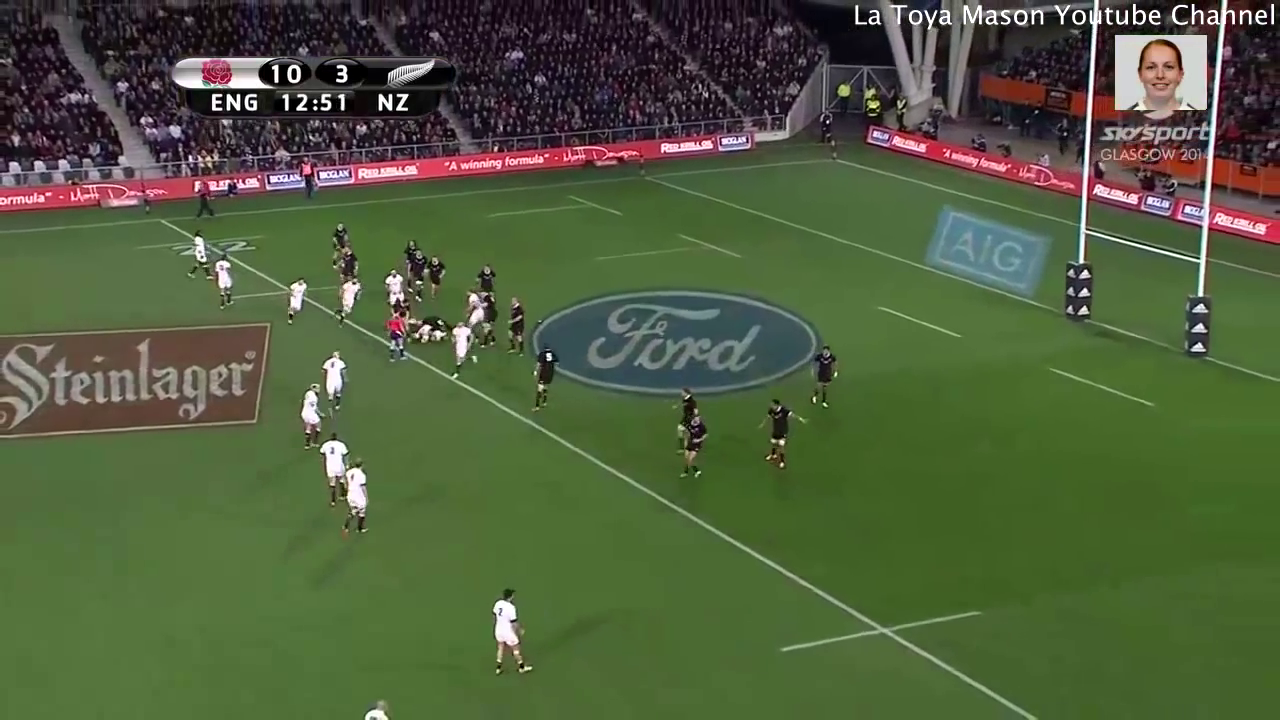player: (481, 583, 541, 674), (754, 392, 803, 474), (338, 454, 374, 542), (804, 338, 845, 415), (294, 372, 331, 455), (317, 428, 353, 510), (317, 344, 357, 416), (526, 336, 561, 414), (322, 272, 369, 327), (677, 410, 711, 483), (499, 288, 531, 359), (670, 384, 701, 448), (181, 223, 214, 283), (211, 246, 239, 315), (476, 288, 505, 352), (277, 272, 310, 328), (383, 305, 412, 368), (326, 212, 359, 264), (447, 314, 472, 377), (458, 283, 485, 333), (332, 241, 365, 279), (354, 695, 397, 720), (409, 249, 430, 300), (425, 254, 446, 300), (383, 270, 407, 308), (469, 263, 494, 294), (401, 234, 416, 271), (423, 315, 454, 328)
post: (1055, 159, 1217, 360)
ruck: (395, 311, 463, 348)
